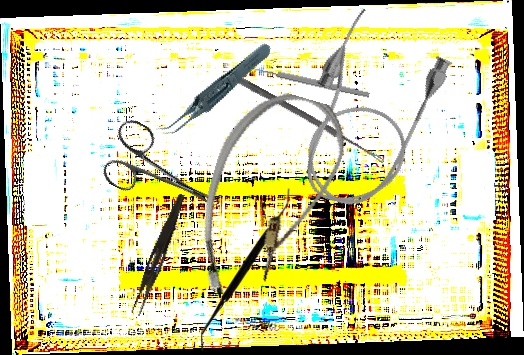Cannula: (182, 79, 355, 316), (274, 3, 459, 224)
Dressing Forceps: (130, 191, 187, 318)
Iris Scissors: (94, 115, 234, 233)
Spatula Surgical: (201, 188, 291, 351)
Surgical Spoon: (230, 73, 388, 165), (238, 61, 371, 99)
Tissue Forceps: (142, 40, 286, 140)
